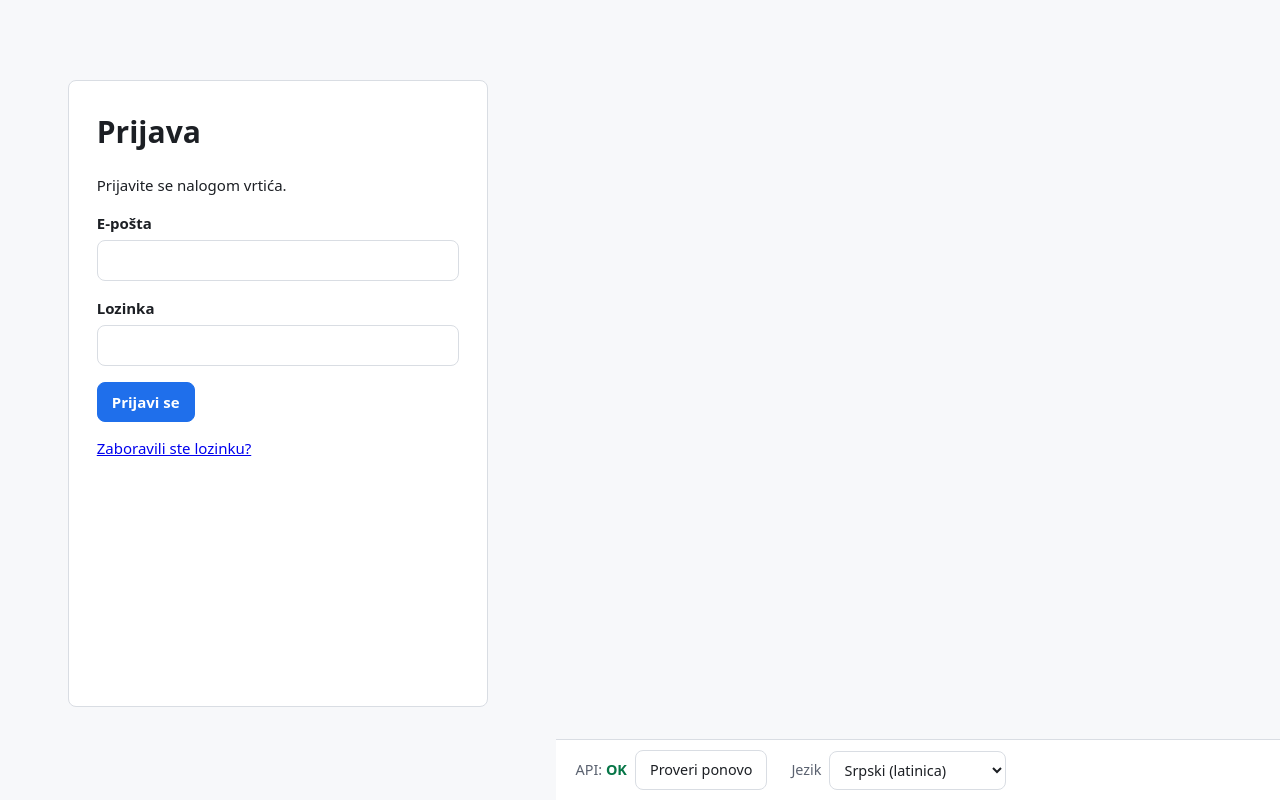
Test: LoginPage › renders the 501 problem+json from POST /api/v1/auth/login in an accessible alert
This screenshot has width=1280, height=800.
Type "admin@vrtic.example" into the field labelled "E-pošta" at (278, 260), box [97,240,459,281]
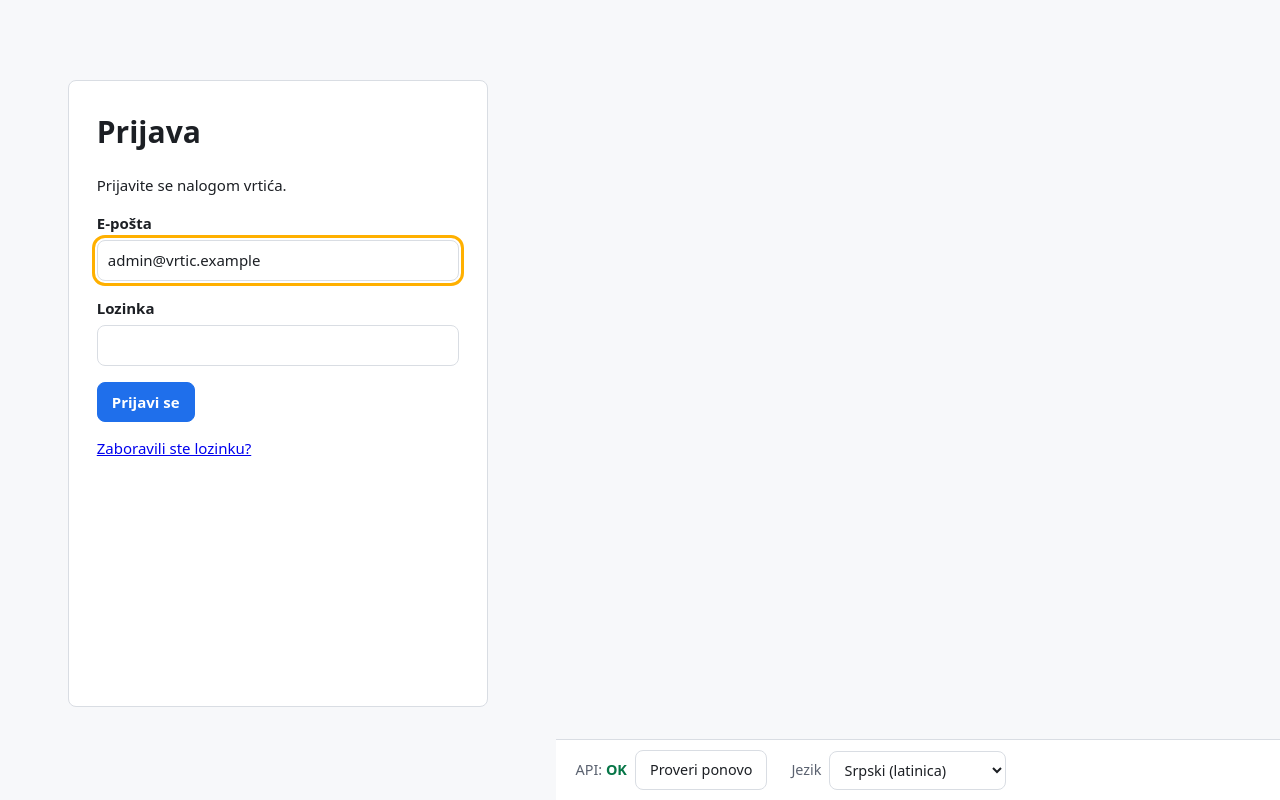
Type "tajna-lozinka" into the password field labelled "Lozinka" at (278, 345), box [97,325,459,366]
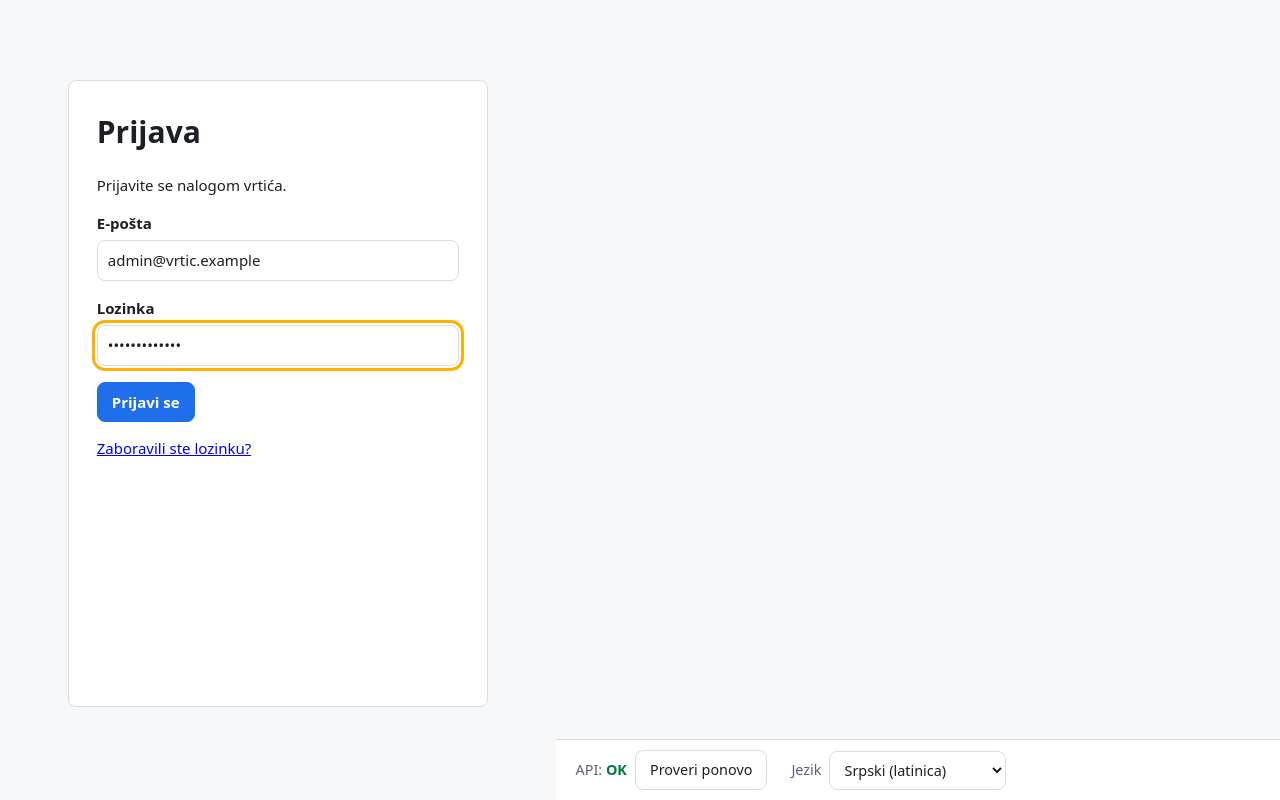
Click the button "Prijavi se" at (146, 402), box [97,382,195,422]
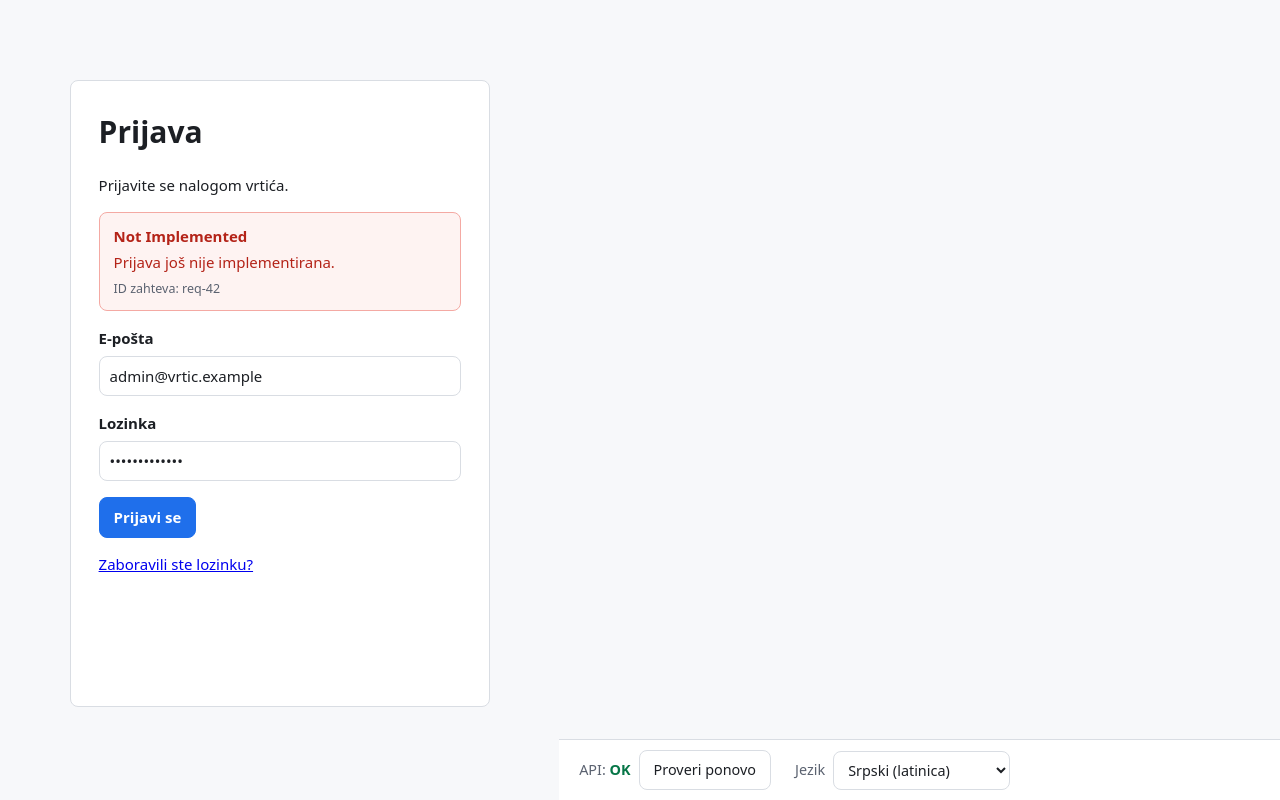
Check: the message "Not Implemented Prijava još nije implementirana. ID zahteva: req-42" is shown, box [99,212,461,311]
